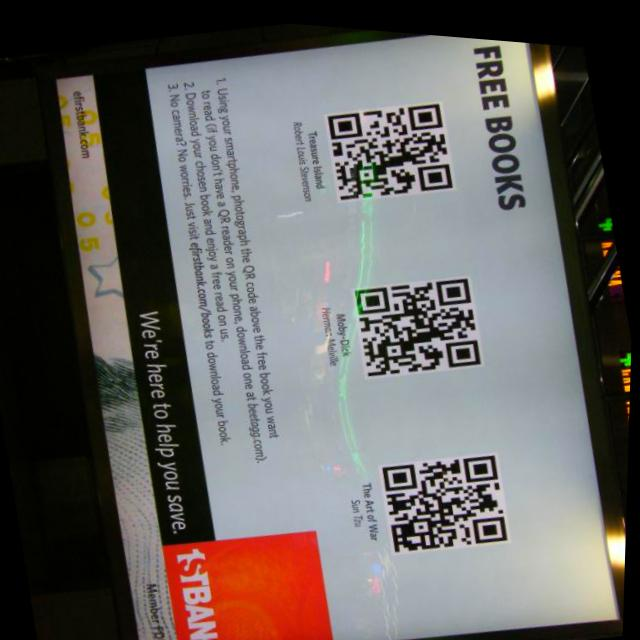qrcode: (382, 441, 514, 554), (355, 265, 485, 379), (326, 91, 456, 203)
